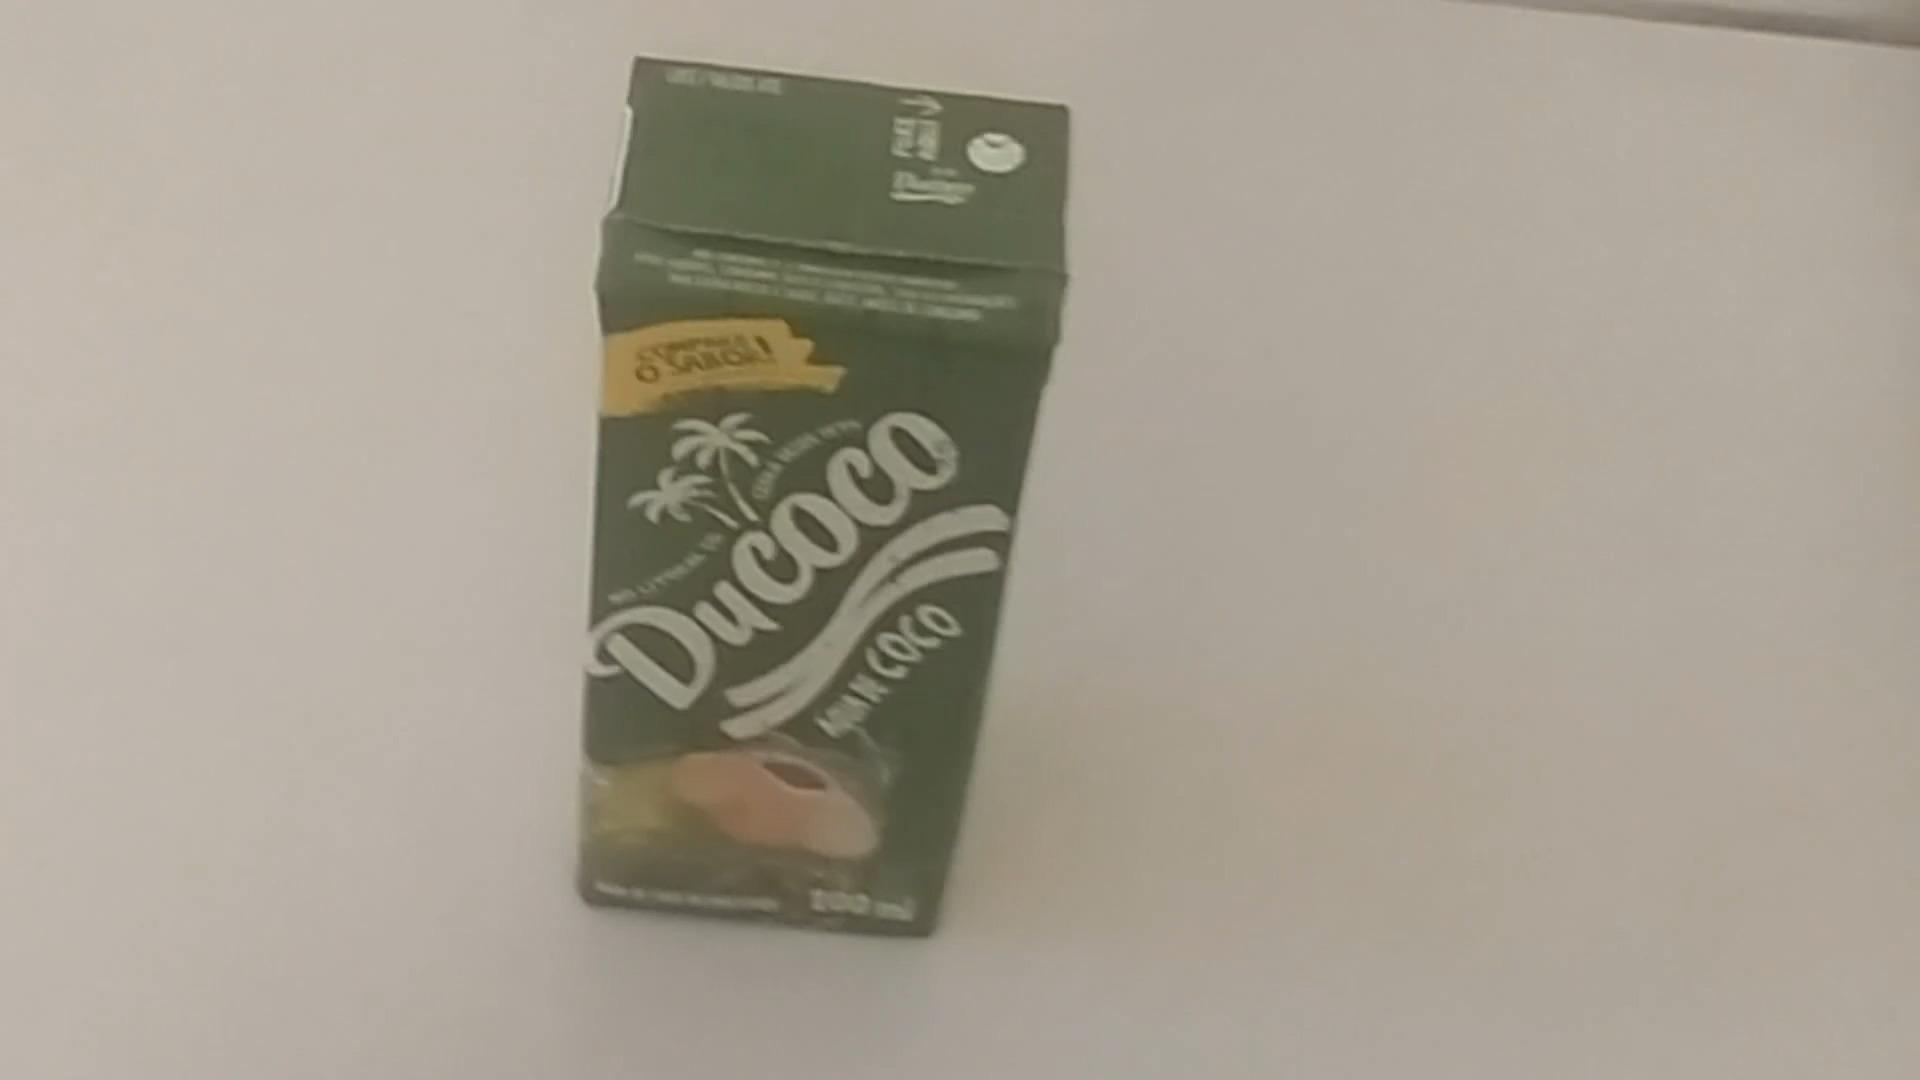coco: (576, 57, 1075, 947)
